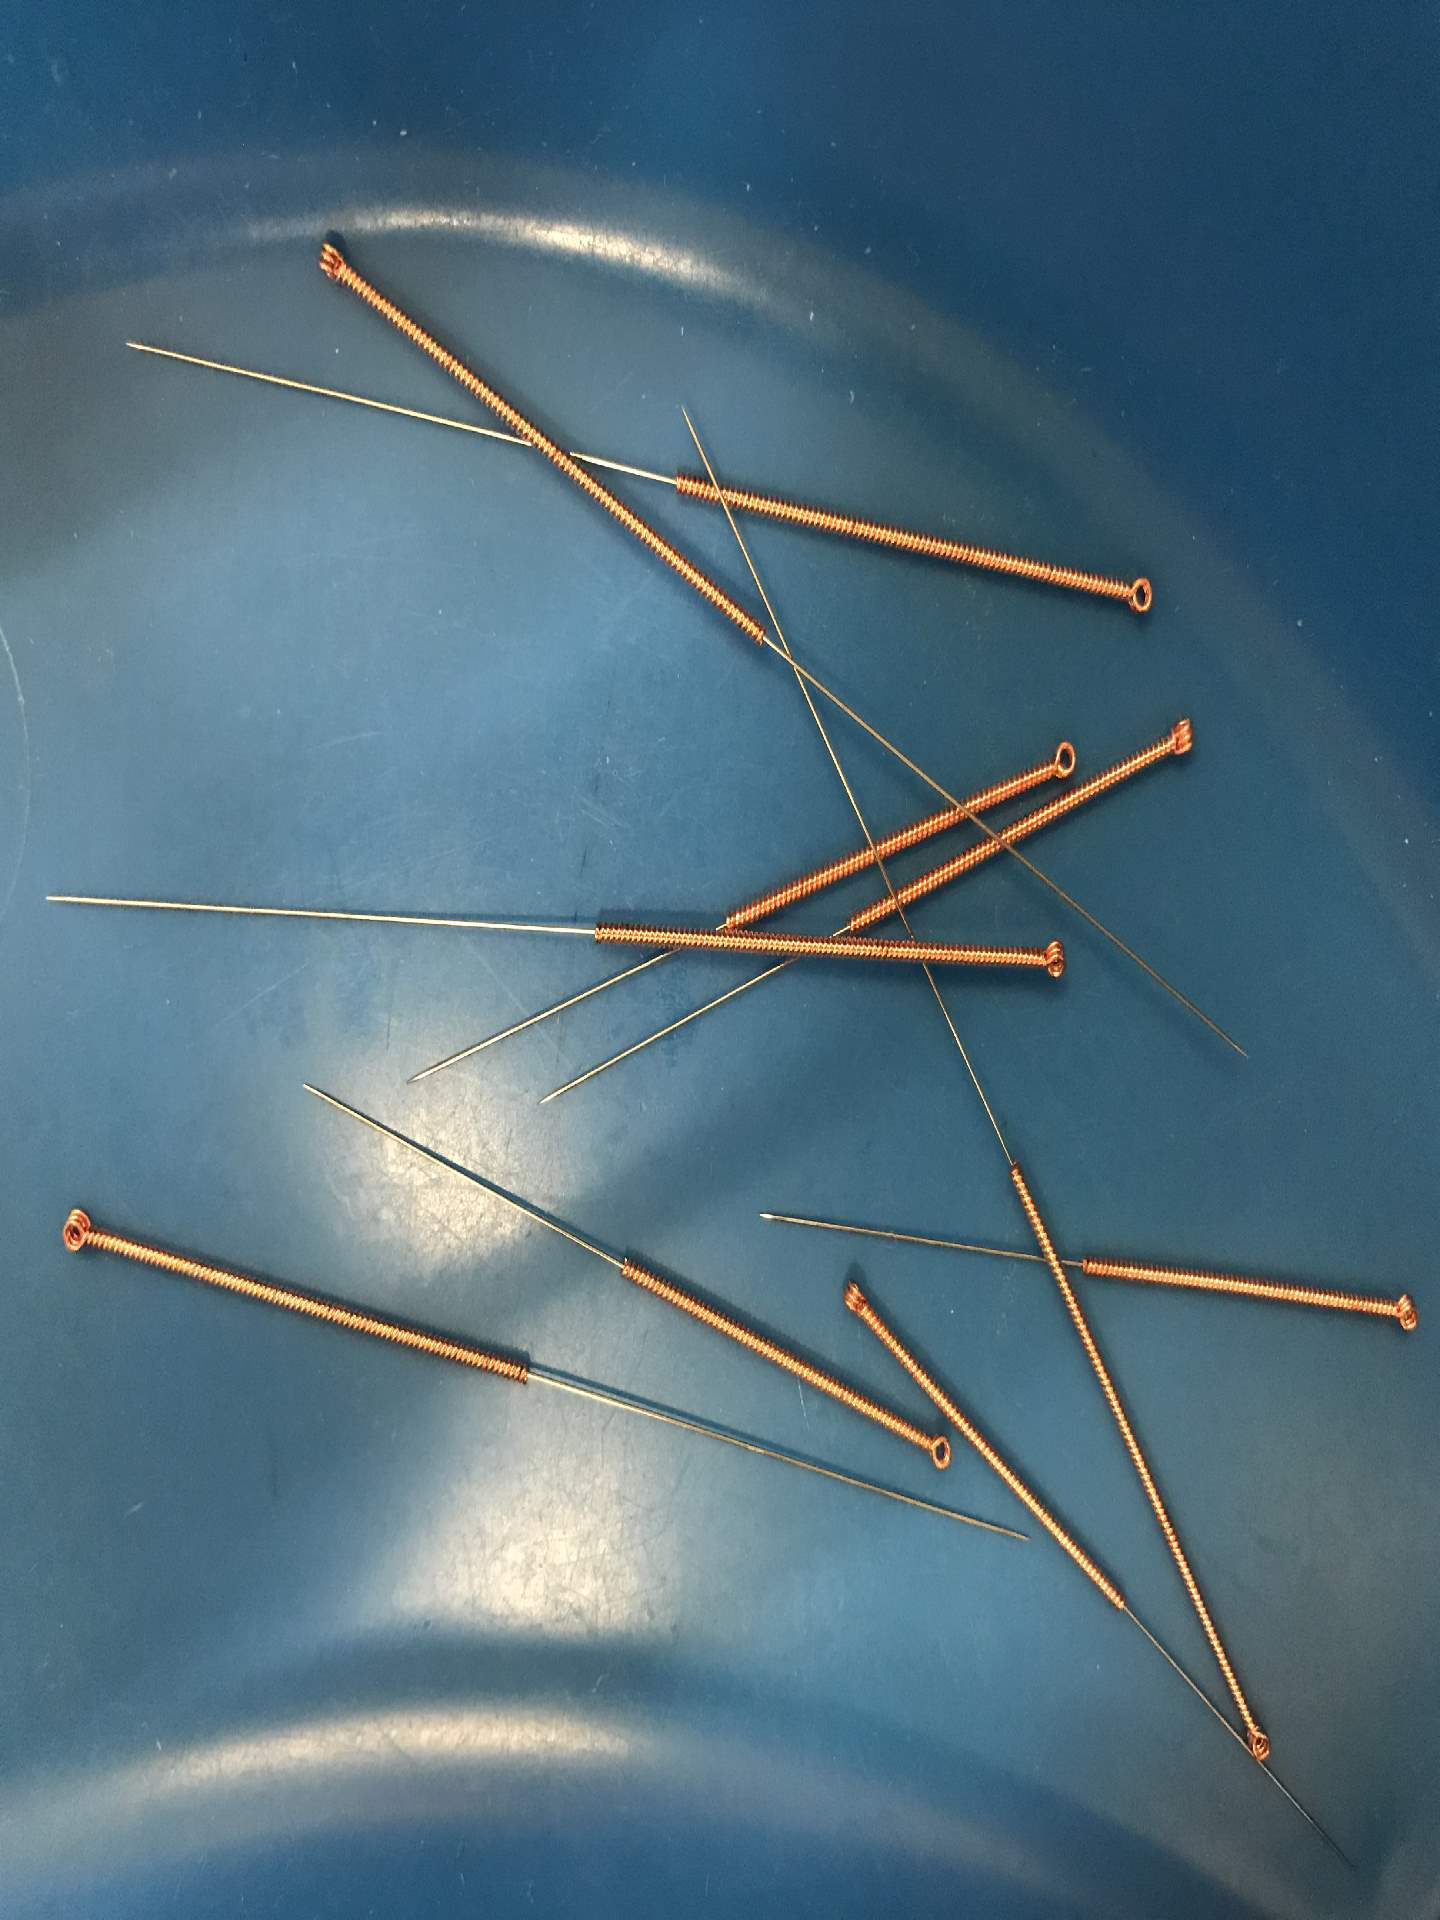needle: (41, 1196, 109, 1270), (1144, 703, 1209, 780), (1106, 556, 1171, 632), (306, 221, 365, 302), (1016, 931, 1078, 993), (824, 1261, 877, 1330), (898, 1421, 957, 1483), (1373, 1284, 1429, 1342), (1233, 1704, 1278, 1775), (1032, 729, 1085, 788)
